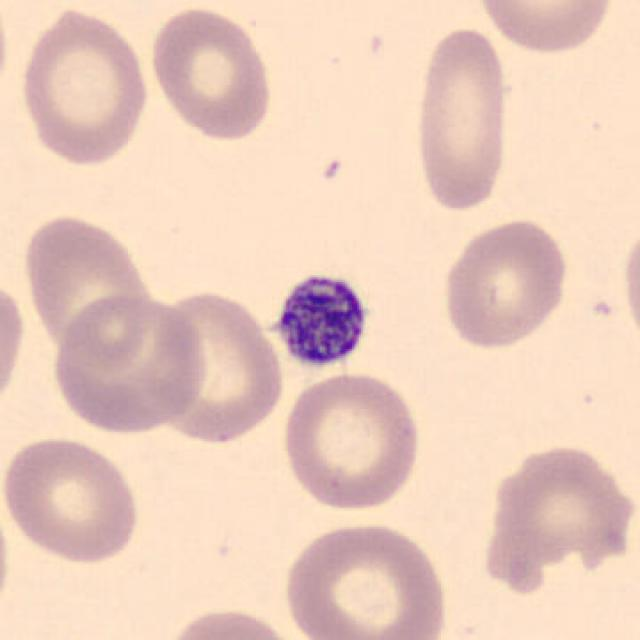Platelets: (267, 266, 373, 372)
RBC: (476, 438, 638, 600), (48, 291, 212, 435), (14, 4, 153, 169), (151, 286, 288, 448), (277, 368, 425, 515), (407, 21, 516, 217), (279, 516, 451, 640), (20, 210, 156, 358), (0, 432, 144, 566), (438, 213, 572, 353), (146, 4, 277, 144), (473, 0, 617, 56), (158, 604, 304, 640), (0, 273, 30, 418), (618, 211, 640, 354), (0, 477, 12, 631), (0, 2, 12, 113)
